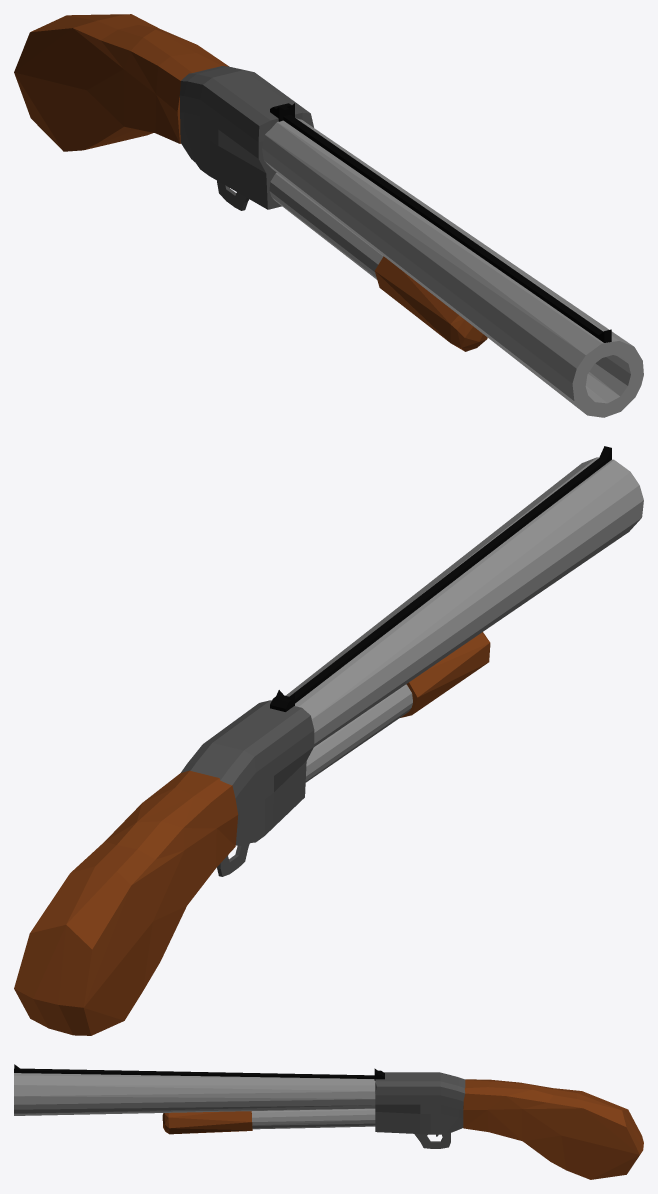
Rendered from shotgun.fbx.
3 renders of one model, top to bottom at view 1: azimuth 30°, elevation 25°; view 2: azimuth 150°, elevation 25°; view 3: azimuth 270°, elevation 25°, orthographic. The views are drawn at different scales.
Visible parts, largest first — view 1: shotgun_LOD0; view 2: shotgun_LOD0; view 3: shotgun_LOD0.
Boxes of the visible parts, x1,y1,x2,y2 form: shotgun_LOD0: (14, 14, 643, 417); shotgun_LOD0: (14, 446, 643, 1035); shotgun_LOD0: (14, 1064, 643, 1179).
Size of what is drawn, in the model's own units: 21.78 by 55.2 by 294.
